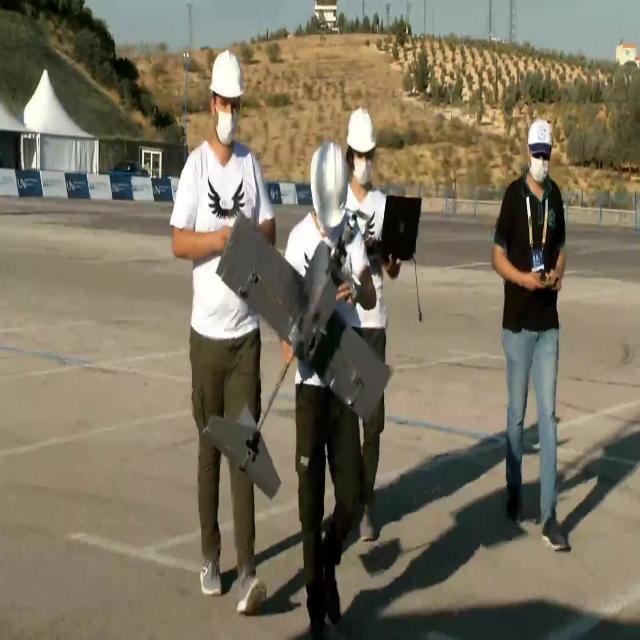iha: (201, 208, 394, 503)
